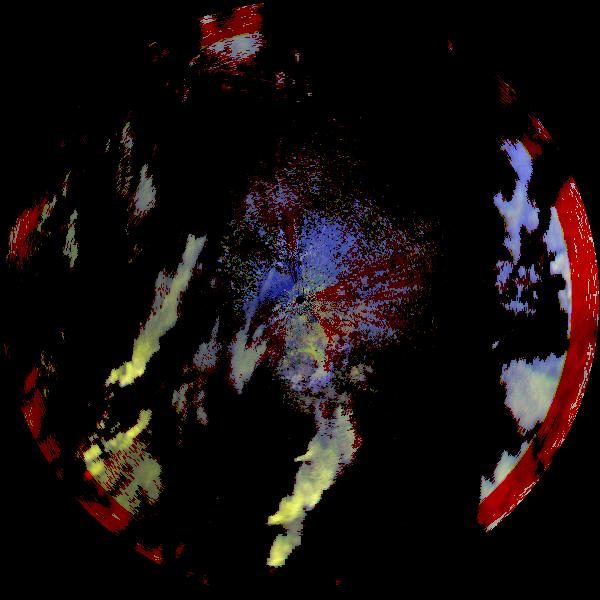roost: (274, 337, 340, 403)
